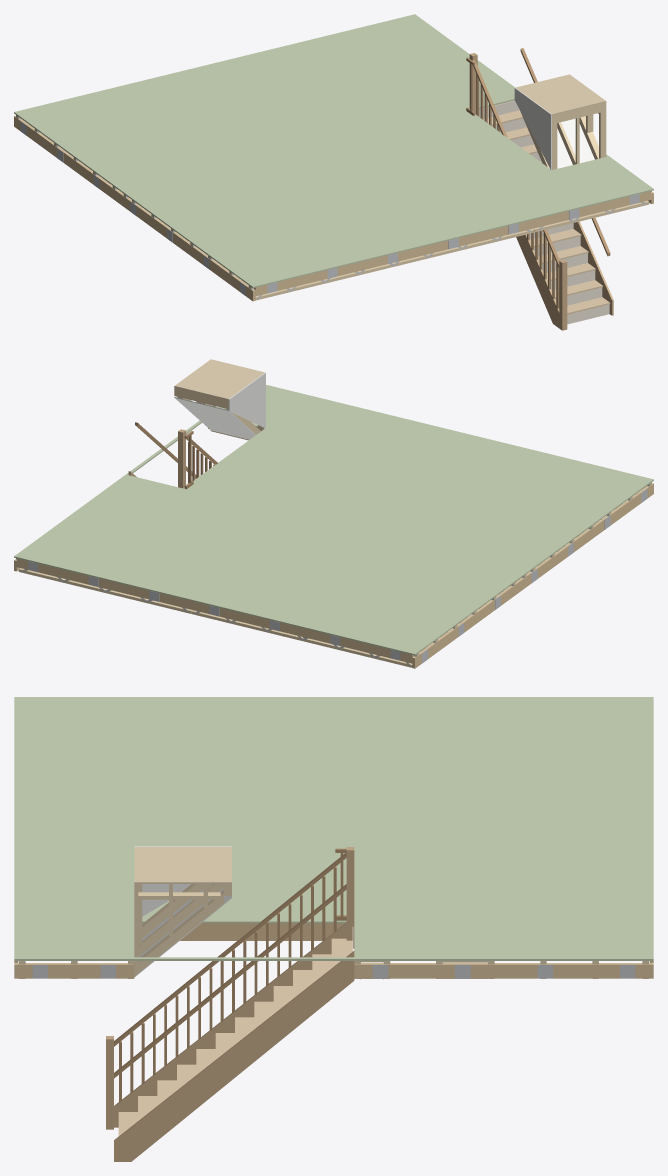
Rendered from stage-3.glb.
3 renders of one model, top to bottom at view 1: azimuth 30°, elevation 25°; view 2: azimuth 150°, elevation 25°; view 3: azimuth 270°, elevation 25°, orthographic. The views are drawn at different scales.
Visible parts, largest first — view 1: Geom3D (×10); view 2: Geom3D (×8); view 3: Geom3D (×10).
Boxes of the visible parts, box(x1,y1,x2,y2) form: Geom3D (×10): box(14, 14, 653, 330); Geom3D (×8): box(14, 359, 653, 668); Geom3D (×10): box(14, 697, 653, 1161).
Bounding box in the file's own units: 7.14 × 3.55 × 7.37.
